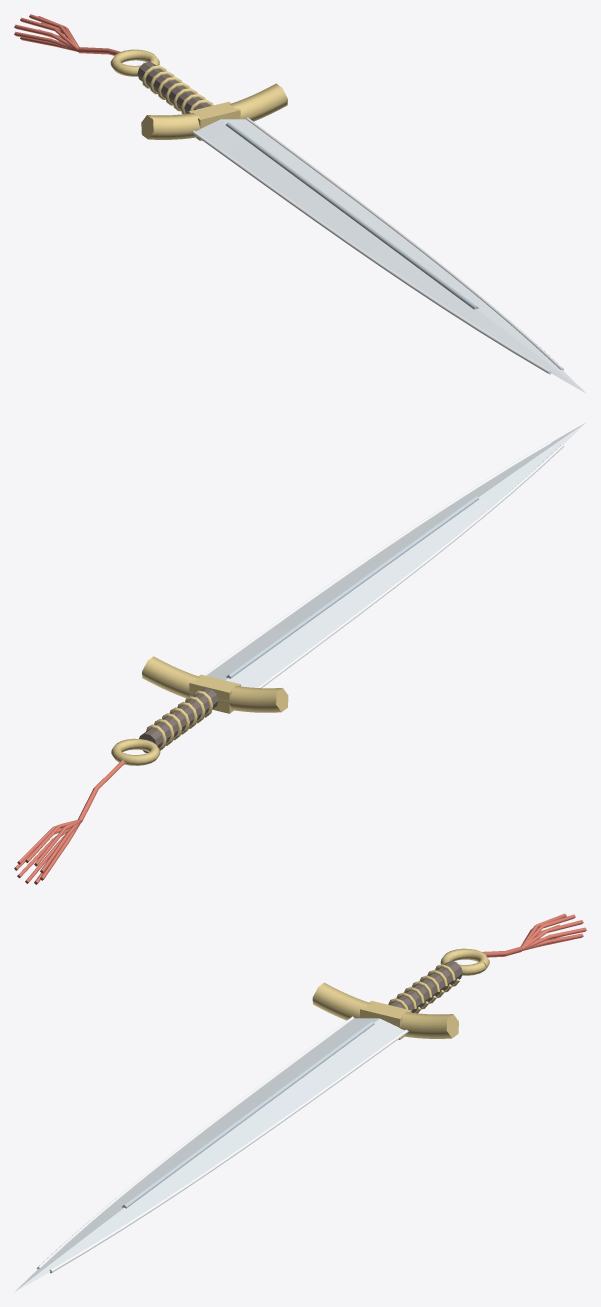
File: sword.glb
3 renders of one model, top to bottom at view 1: azimuth 30°, elevation 25°; view 2: azimuth 150°, elevation 25°; view 3: azimuth 330°, elevation 25°, orthographic.
Parts seen in each view (by area): view 1: sword; view 2: sword; view 3: sword.
Part boxes in pixels (<box>): sword: <box>14,14,586,393</box>; sword: <box>14,422,586,884</box>; sword: <box>15,913,586,1291</box>.
Size of the model in its own units: 0.415 by 0.212 by 2.88.
